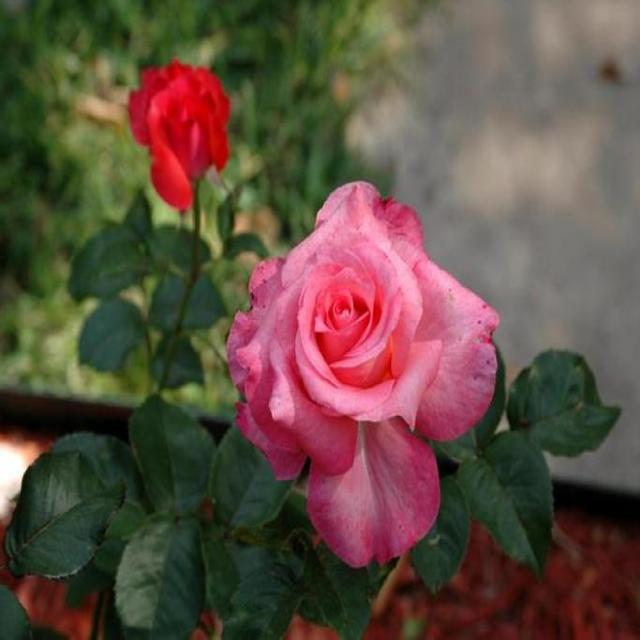rose: (223, 182, 526, 590), (99, 46, 270, 230)
